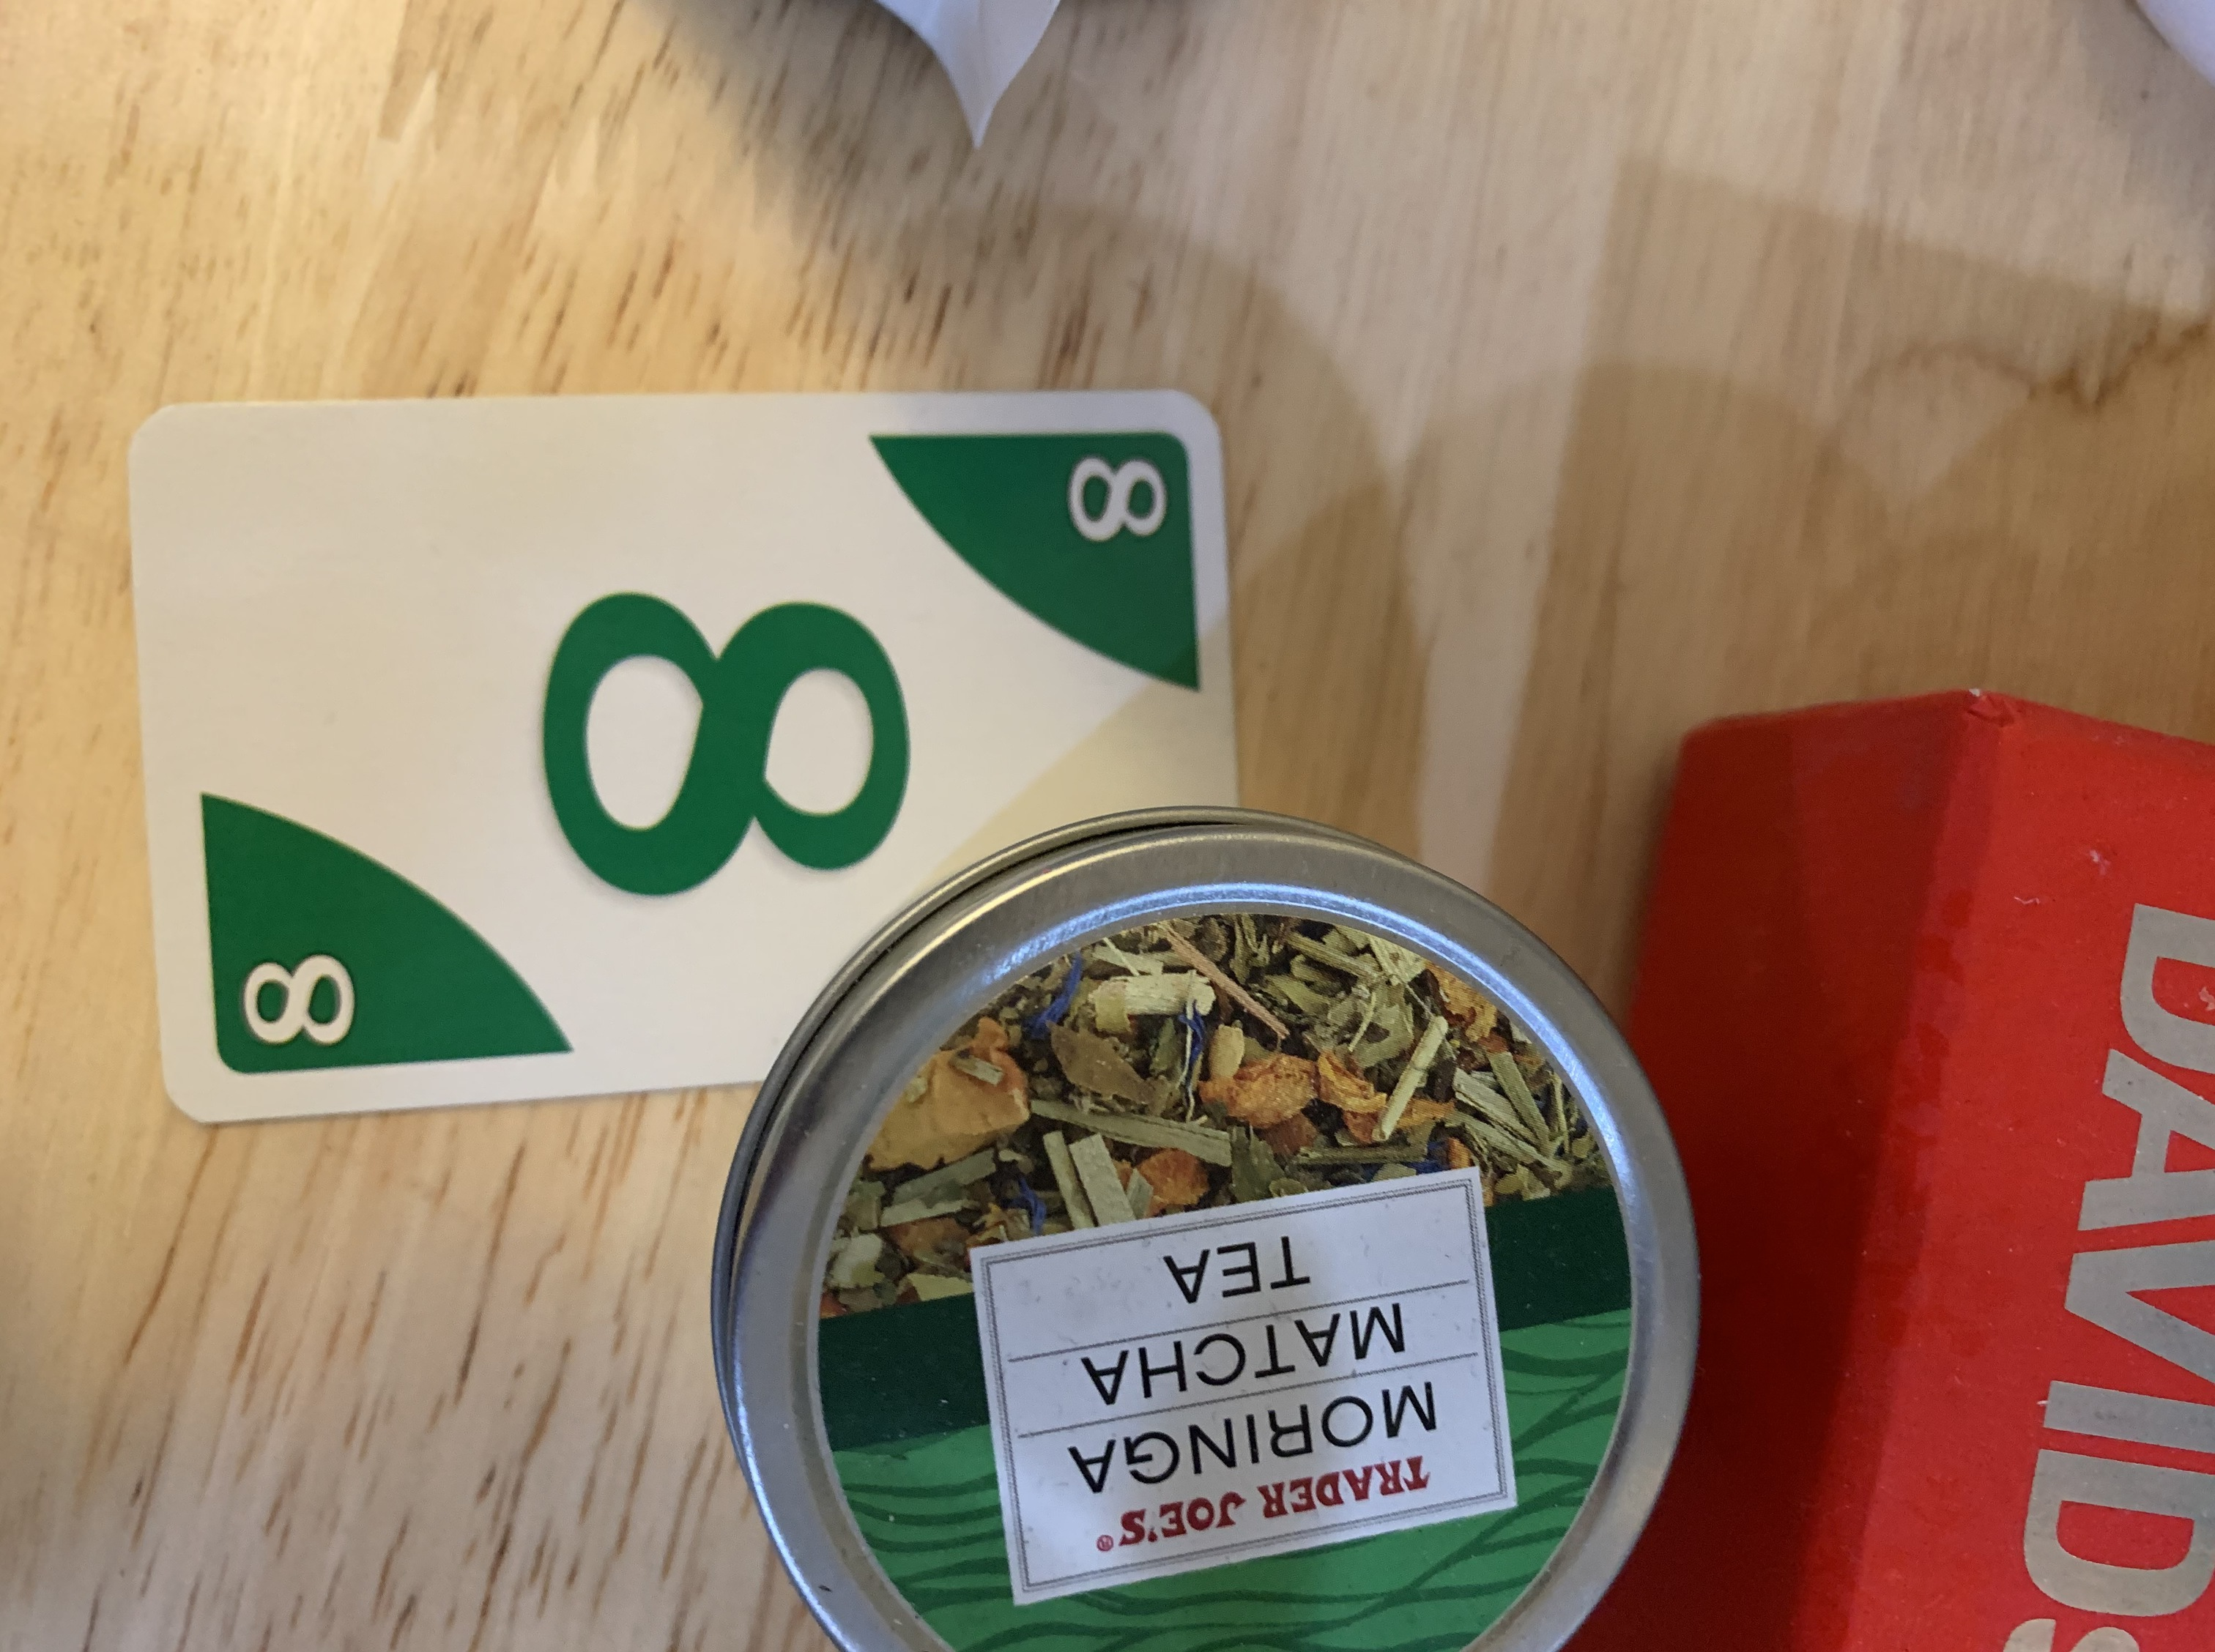eight: (104, 364, 1281, 1171)
